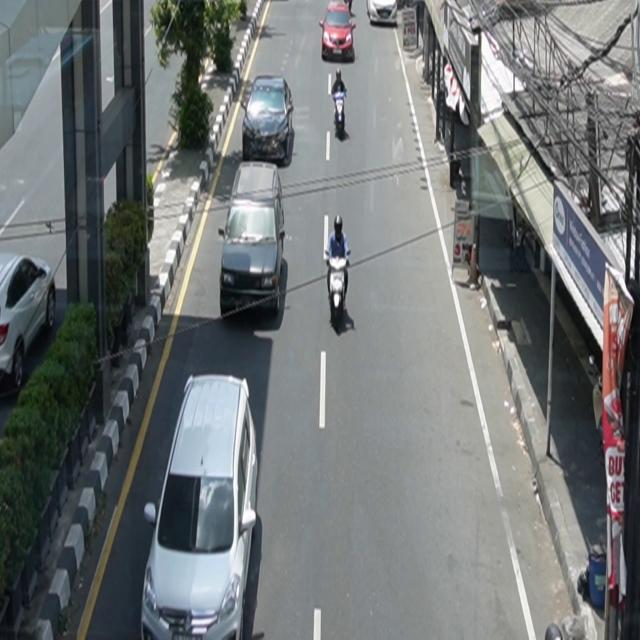car: (141, 374, 259, 640), (1, 252, 57, 390), (243, 75, 295, 166), (320, 2, 357, 63), (367, 1, 398, 26)
